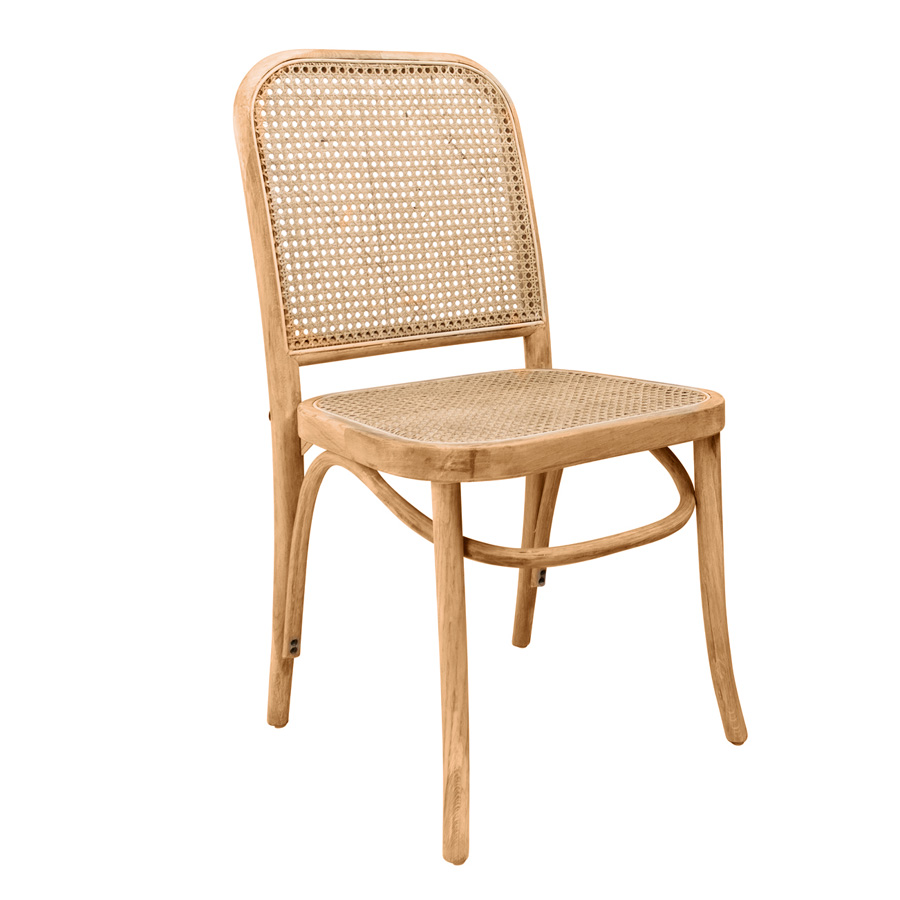kursi: (214, 37, 785, 869)
